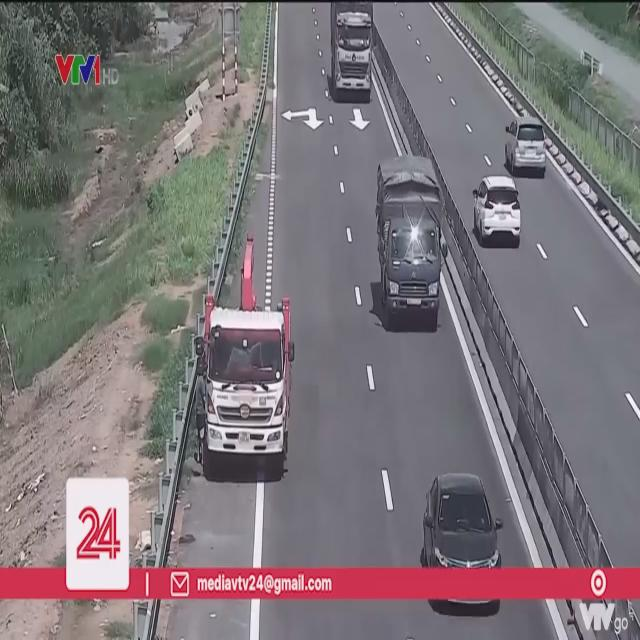car: (420, 471, 500, 565), (472, 172, 522, 249), (504, 114, 550, 182)
truck: (205, 298, 291, 472), (374, 156, 446, 334), (329, 3, 375, 102)
